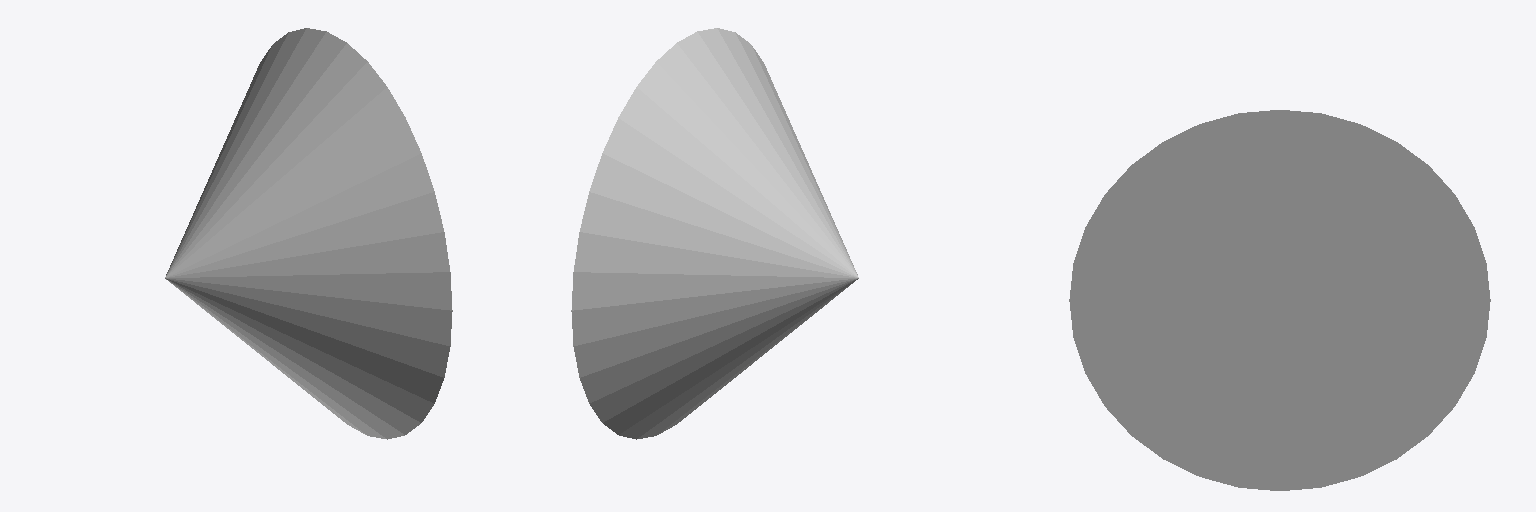
The model's file is spot_light_cone.obj.
The picture shows the model from 3 angles: view 1: azimuth 30°, elevation 25°; view 2: azimuth 150°, elevation 25°; view 3: azimuth 270°, elevation 25°; orthographic projection.
Visible parts, largest first — view 1: Cone; view 2: Cone; view 3: Cone.
Part boxes in pixels (x1,y1,x2,y2): Cone: (165, 28, 452, 439); Cone: (571, 28, 858, 439); Cone: (1069, 110, 1490, 490).
Size of the model in its own units: 1 by 2 by 2.